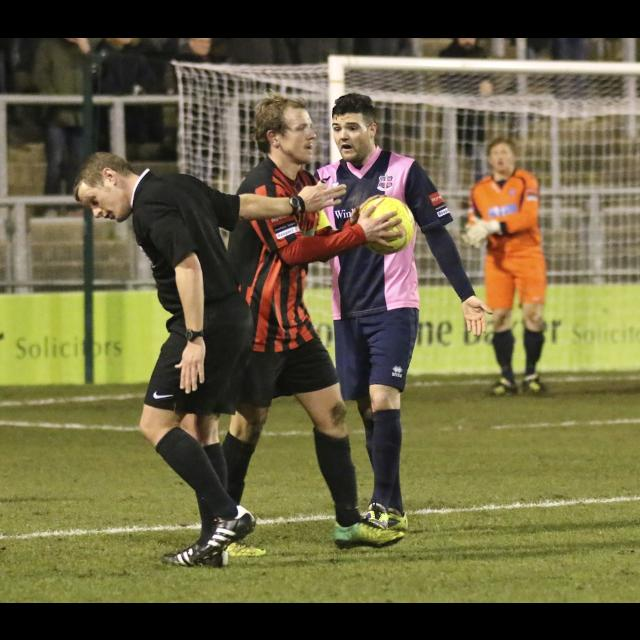Football: (360, 195, 412, 253)
